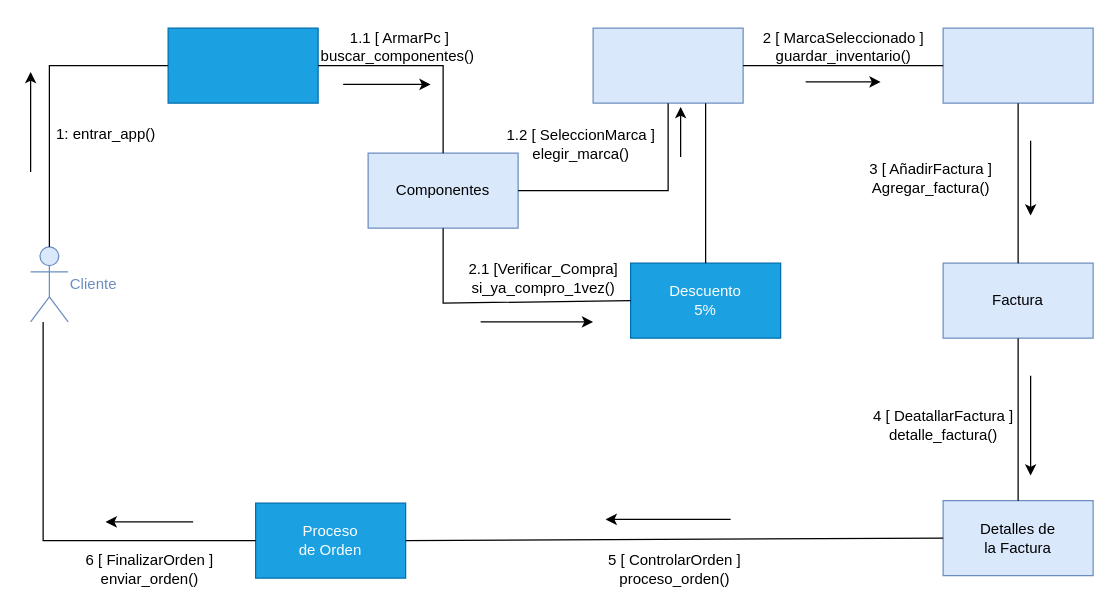
Image size: 1115x615. Some labels were removed from this diagram. Each missing label, with the box of its shape:
Inventario: (942, 27, 1093, 103)
Marca: (592, 27, 743, 103)
Tienda app: (167, 27, 318, 103)
